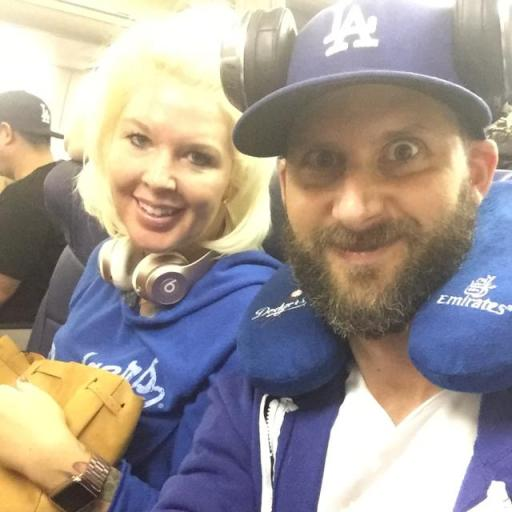Emirates: (433, 272, 512, 317)
